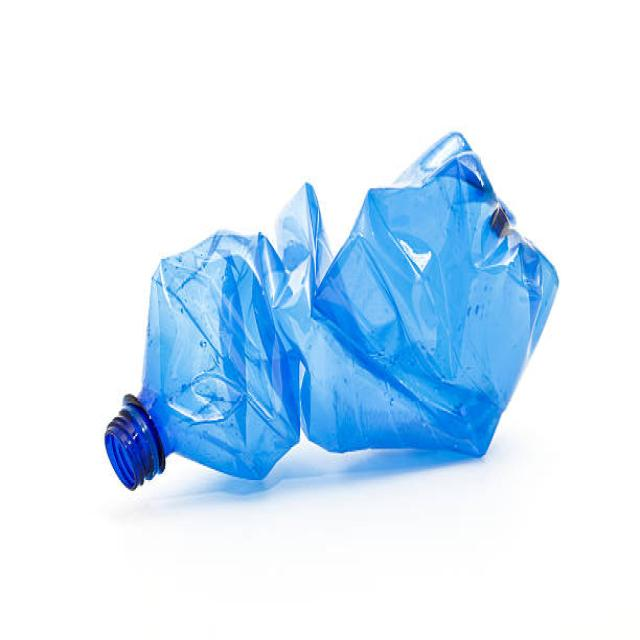plastic: (91, 168, 563, 470)
